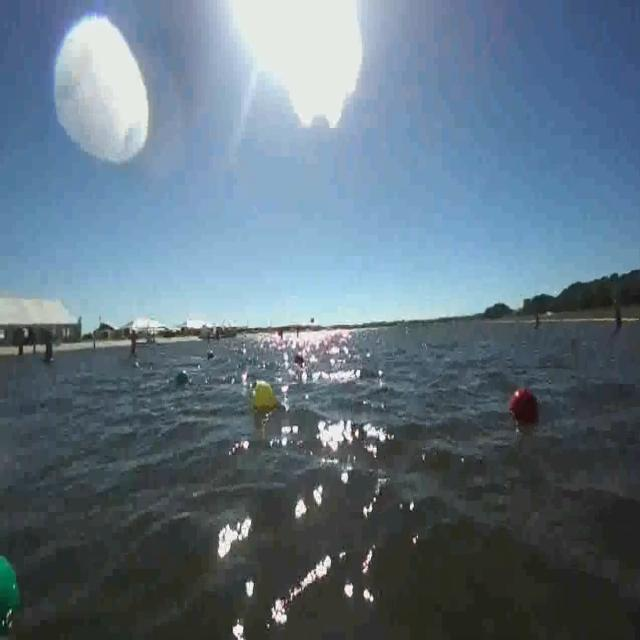green-buoy: (0, 552, 27, 639)
red-buoy: (511, 389, 540, 425)
yellow-buoy: (251, 378, 280, 414)
